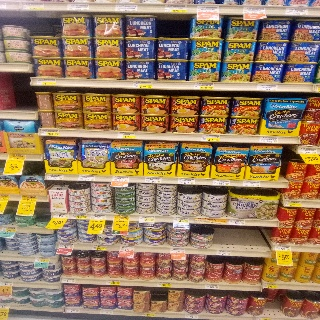All PRICE TAGS: (165, 5, 186, 13), (67, 4, 89, 11), (286, 8, 308, 15), (116, 5, 137, 12), (23, 3, 44, 10), (298, 147, 318, 154), (257, 84, 277, 91), (197, 6, 220, 12), (134, 81, 153, 88), (195, 82, 214, 89), (243, 7, 265, 13), (260, 136, 278, 143), (36, 79, 56, 85), (201, 135, 220, 141), (21, 195, 37, 202), (117, 132, 135, 138), (243, 180, 261, 186), (8, 154, 25, 160), (47, 174, 64, 180), (213, 179, 230, 185), (275, 245, 291, 251), (285, 200, 301, 206), (79, 175, 95, 181), (145, 177, 161, 183), (178, 178, 194, 184), (139, 216, 155, 222), (173, 217, 189, 223), (229, 219, 245, 225), (2, 226, 17, 232), (44, 129, 59, 135), (59, 243, 74, 249), (217, 249, 232, 255), (112, 176, 129, 181), (99, 309, 113, 315), (35, 256, 49, 262), (90, 214, 106, 219), (0, 281, 13, 287), (116, 215, 129, 221), (53, 213, 68, 218), (119, 246, 134, 251), (185, 313, 199, 318), (205, 284, 219, 289), (263, 283, 277, 288), (74, 214, 88, 219), (92, 245, 106, 250), (171, 248, 185, 253), (67, 308, 80, 313), (62, 278, 75, 283), (159, 282, 172, 287), (107, 280, 119, 285), (0, 195, 9, 201), (1, 304, 10, 309), (0, 3, 7, 9), (258, 317, 271, 320), (141, 313, 154, 316)
